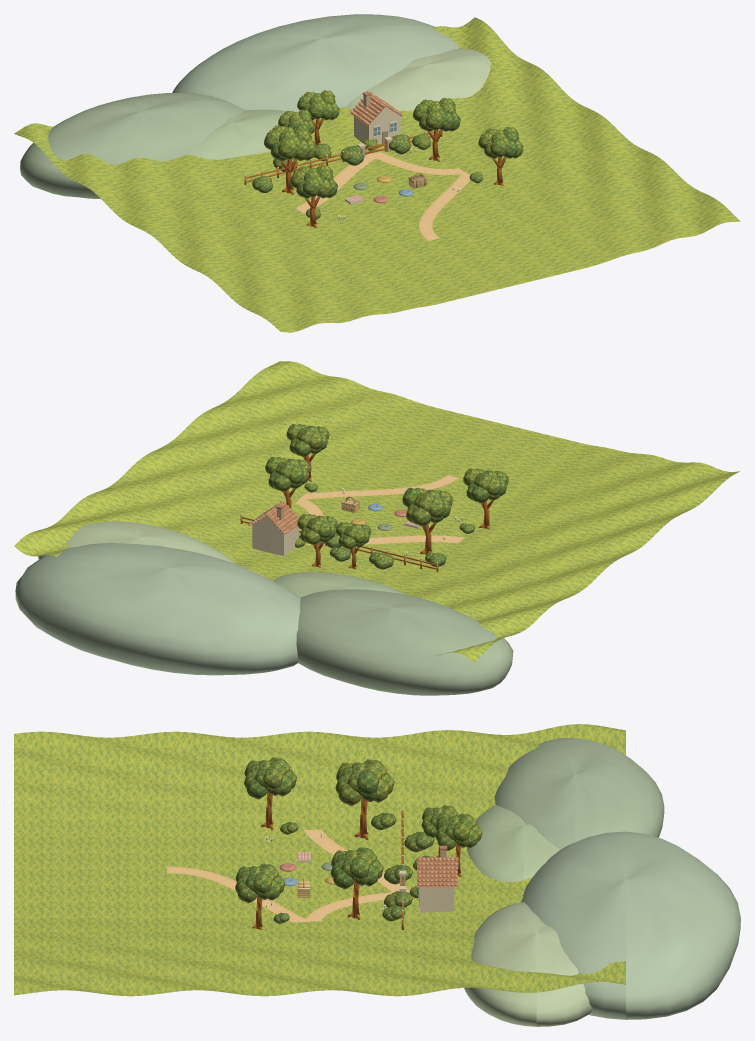
Rendered from picnic-garden.glb.
The picture shows the model from 3 angles, top to bottom: view 1: azimuth 30°, elevation 25°; view 2: azimuth 150°, elevation 25°; view 3: azimuth 270°, elevation 25°; orthographic projection. The views are drawn at different scales.
Parts seen in each view (by area): view 1: Lawn, Distant hills, Tree crowns, Cream paths, Rounded hedges, Tree trunks, Cottage walls, Roof tiles; view 2: Lawn, Distant hills, Tree crowns, Cream paths, Rounded hedges, Cottage walls, Tree trunks, Roof tiles; view 3: Lawn, Distant hills, Tree crowns, Cream paths, Rounded hedges, Tree trunks, Roof tiles, Cottage walls, Cottage roof.
Boxes of the visible parts, <box> form: Lawn: <box>14,17,740,332</box>; Distant hills: <box>20,14,491,198</box>; Tree crowns: <box>264,90,523,198</box>; Cream paths: <box>295,151,470,240</box>; Rounded hedges: <box>252,134,482,219</box>; Tree trunks: <box>280,118,506,226</box>; Cottage walls: <box>354,106,400,144</box>; Roof tiles: <box>350,92,403,124</box>; Lawn: <box>14,361,739,662</box>; Distant hills: <box>15,521,513,695</box>; Tree crowns: <box>265,424,508,549</box>; Cream paths: <box>295,475,465,544</box>; Rounded hedges: <box>295,483,474,569</box>; Cottage walls: <box>252,515,298,555</box>; Tree trunks: <box>283,454,493,568</box>; Roof tiles: <box>248,502,299,533</box>; Lawn: <box>14,724,625,996</box>; Distant hills: <box>464,738,740,1026</box>; Tree crowns: <box>235,757,482,903</box>; Cream paths: <box>167,829,409,922</box>; Rounded hedges: <box>273,812,434,923</box>; Tree trunks: <box>255,790,460,928</box>; Roof tiles: <box>417,857,458,885</box>; Cottage walls: <box>420,887,454,912</box>; Cottage roof: <box>417,858,457,887</box>.
Bounding box in the file's own units: 50 × 11.3 × 57.03.
Materials: 2 (1 with a texture image).
